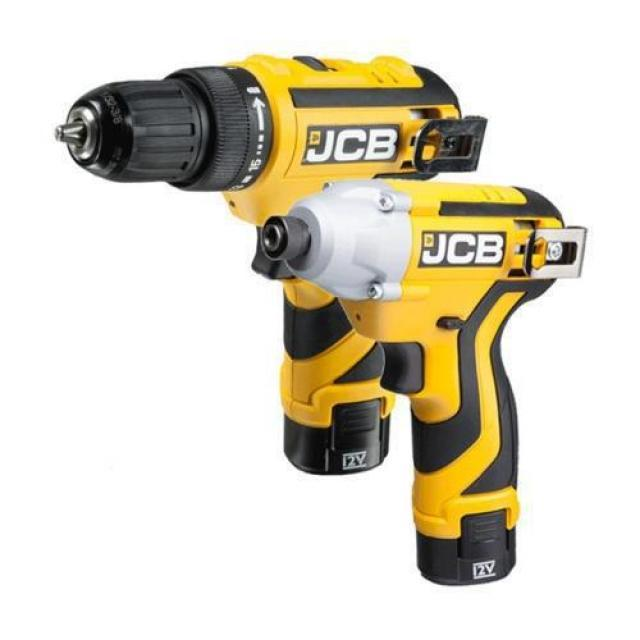drill: (52, 52, 487, 476), (261, 180, 586, 588)
